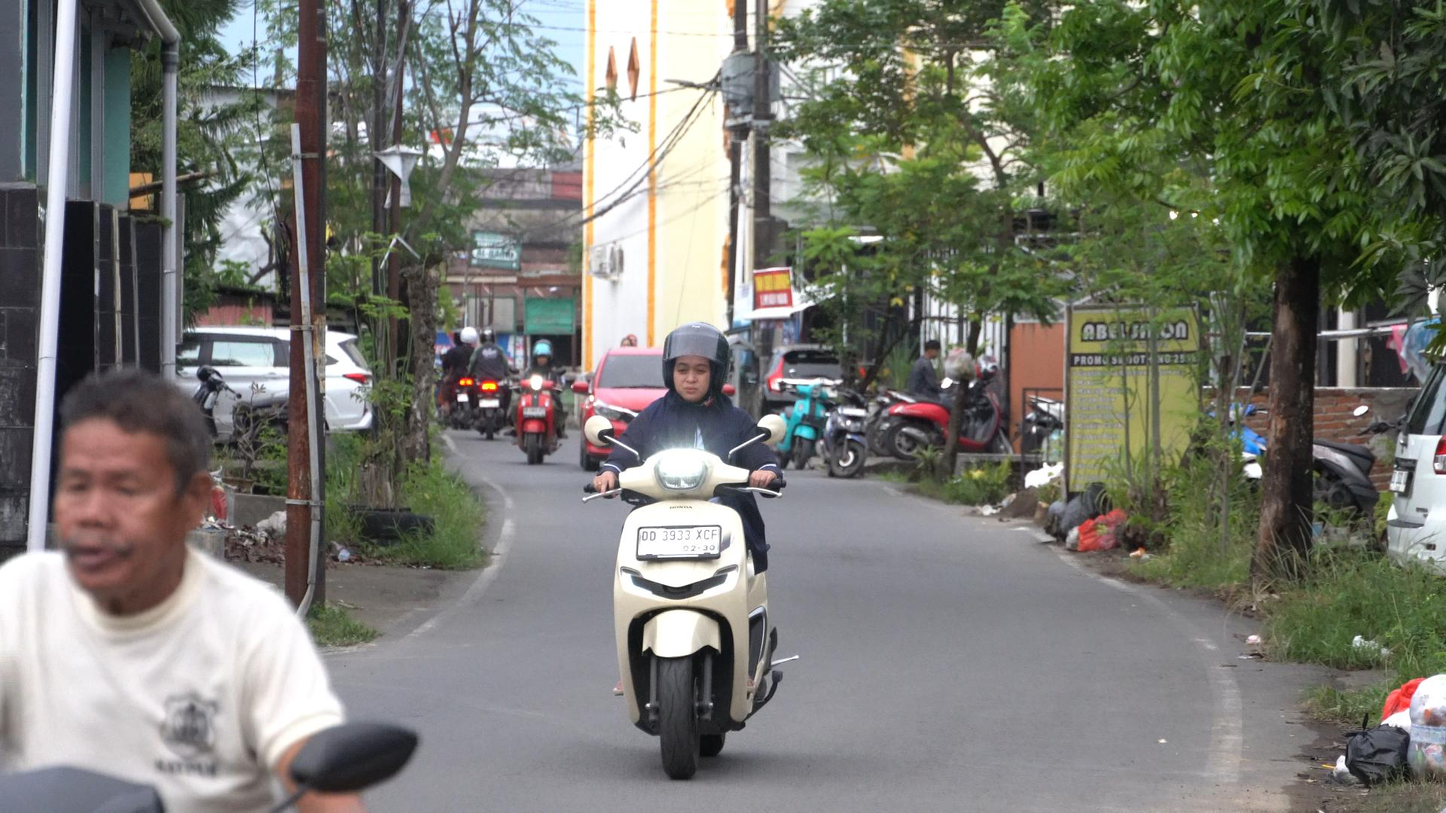number-plate: (630, 520, 721, 559)
